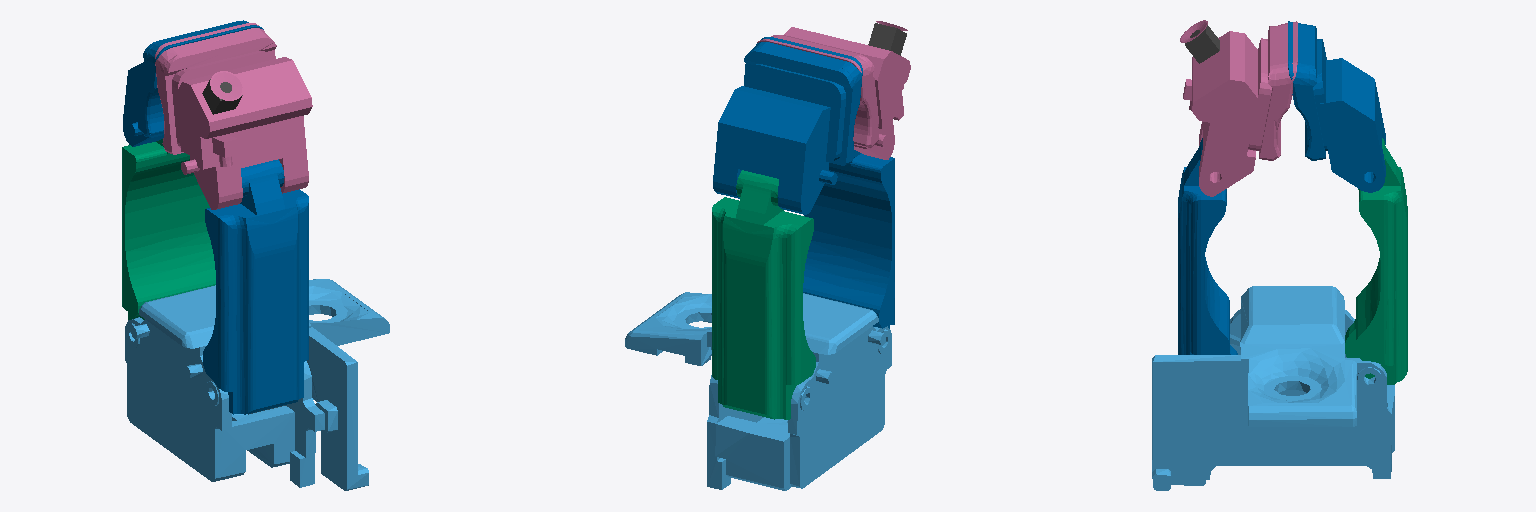
The robot description file, URDF, robot "hsrc_hand":
<?xml version='1.0' encoding='utf-8'?>
<robot name="hsrc_hand">
  <material name="body_main">
    <color rgba="1.0 0.0 0.0 1.0" />
  </material>
  <material name="body_sub">
    <color rgba="0.33 0.33 0.33 1.0" />
  </material>
  <material name="wheel">
    <color rgba="0.2 0.2 0.2 1.0" />
  </material>
  <material name="black">
    <color rgba="0.1 0.1 0.1 1.0" />
  </material>
  <material name="tablet">
    <color rgba="0.1 0.1 0.2 1.0" />
  </material>
  
  <link name="base_link" />
  <joint name="hand_palm_joint" type="fixed">
    <origin rpy="0.0 0.0 0.0" xyz="0.0 0.0 0.0" />
    <parent link="base_link" />
    <child link="hand_palm_link" />
  </joint>
  <link name="hand_palm_link">
    <inertial>
      <mass value="0.15" />
      <inertia ixx="0.015" ixy="0.0" ixz="0.0" iyy="0.015" iyz="0.0" izz="0.015" />
    </inertial>
    <visual>
      <geometry>
        <mesh filename="meshes/palm.dae" />
      </geometry>
    </visual>
    <collision>
      <geometry>
        <mesh filename="meshes/palm.stl" />
      </geometry>
    </collision>
  </link>
  <joint name="hand_motor_joint" type="revolute">
    <axis xyz="1.0 0.0 0.0" />
    <limit effort="100.0" lower="-0.798" upper="1.24" velocity="1.0" />
    <parent link="hand_palm_link" />
    <child link="hand_motor_dummy_link" />
    <dynamics damping="0.0001" />
  </joint>
  <link name="hand_motor_dummy_link">
    <inertial>
      <mass value="0.001" />
      <inertia ixx="0.001" ixy="0.0" ixz="0.0" iyy="0.001" iyz="0.0" izz="0.001" />
    </inertial>
  </link>
  <joint name="hand_l_proximal_joint" type="revolute">
    <origin rpy="0.0 0.0 0.0" xyz="-0.031 -0.0245 -0.0165" />
    <axis xyz="1.0 0.0 0.0" />
    <limit effort="100.0" lower="-0.798" upper="1.24" velocity="1.0" />
    <parent link="hand_palm_link" />
    <child link="hand_l_proximal_link" />
    <mimic joint="hand_motor_joint" />
    <dynamics damping="0.0001" />
  </joint>
  <link name="hand_l_proximal_link">
    <inertial>
      <mass value="0.001" />
      <inertia ixx="0.001" ixy="0.0" ixz="0.0" iyy="0.001" iyz="0.0" izz="0.001" />
    </inertial>
  </link>
  <joint name="hand_l_spring_proximal_joint" type="revolute">
    <axis xyz="1.0 0.0 0.0" />
    <limit effort="10.0" lower="0.0" upper="0.698" velocity="1.0" />
    <parent link="hand_l_proximal_link" />
    <child link="hand_l_spring_proximal_link" />
    <dynamics damping="0.0001" />
  </joint>
  <link name="hand_l_spring_proximal_link">
    <inertial>
      <mass value="0.001" />
      <origin xyz="0.021418 0.00248 0.022688" />
      <inertia ixx="0.001" ixy="0.0" ixz="0.0" iyy="0.001" iyz="0.0" izz="0.001" />
    </inertial>
    <visual>
      <geometry>
        <mesh filename="meshes/l_proximal.dae" />
      </geometry>
    </visual>
    <collision>
      <origin rpy="0.0 0.0 0.0" xyz="0.0205 -0.0075 0.04" />
      <geometry>
        <box size="0.032 0.015 0.05" />
      </geometry>
    </collision>
  </link>
  <joint name="hand_l_mimic_distal_joint" type="revolute">
    <origin xyz="0.0 0.0 0.07" />
    <axis xyz="1.0 0.0 0.0" />
    <limit effort="100.0" lower="-0.698" upper="-0.0" velocity="1.0" />
    <parent link="hand_l_spring_proximal_link" />
    <child link="hand_l_mimic_distal_link" />
    <mimic joint="hand_l_spring_proximal_joint" multiplier="-1.0" />
    <dynamics damping="0.0001" />
  </joint>
  <link name="hand_l_mimic_distal_link">
    <inertial>
      <mass value="0.001" />
      <inertia ixx="0.001" ixy="0.0" ixz="0.0" iyy="0.001" iyz="0.0" izz="0.001" />
    </inertial>
  </link>
  <joint name="hand_l_distal_joint" type="revolute">
    <axis xyz="1.0 0.0 0.0" />
    <limit effort="100.0" lower="-1.24" upper="0.798" velocity="1.0" />
    <parent link="hand_l_mimic_distal_link" />
    <child link="hand_l_distal_link" />
    <mimic joint="hand_motor_joint" multiplier="-1.0" offset="-0.087" />
    <dynamics damping="0.0001" />
  </joint>
  <link name="hand_l_distal_link">
    <inertial>
      <mass value="0.001" />
      <origin xyz="0.011116 0.005679 0.017532" />
      <inertia ixx="0.001" ixy="0.0" ixz="0.0" iyy="0.001" iyz="0.0" izz="0.001" />
    </inertial>
    <visual>
      <geometry>
        <mesh filename="meshes/l_distal.dae" />
      </geometry>
    </visual>
    <collision>
      <origin rpy="0.0 0.0 0.0" xyz="0.02 0.018 0.025" />
      <geometry>
        <box size="0.04 0.01 0.032" />
      </geometry>
    </collision>
    <collision>
      <origin rpy="0.0 0.0 0.0" xyz="0.02 0.0015 0.02" />
      <geometry>
        <box size="0.04 0.023 0.04" />
      </geometry>
    </collision>
  </link>
  <joint name="hand_l_finger_tip_frame_joint" type="fixed">
    <origin rpy="-1.5707963267948966 0.0 0.0" xyz="0.0195 0.0226 0.0409" />
    <parent link="hand_l_distal_link" />
    <child link="hand_l_finger_tip_frame" />
    <dynamics damping="0.0001" />
  </joint>
  <link name="hand_l_finger_tip_frame">
    <inertial>
      <mass value="0.001" />
      <inertia ixx="0.001" ixy="0.0" ixz="0.0" iyy="0.001" iyz="0.0" izz="0.001" />
    </inertial>
  </link>
  <joint name="hand_l_finger_vacuum_frame_joint" type="fixed">
    <origin rpy="0.6981317007977318 0.0 0.0" xyz="0.0065 -0.00953 0.035577" />
    <parent link="hand_l_distal_link" />
    <child link="hand_l_finger_vacuum_frame" />
  </joint>
  <link name="hand_l_finger_vacuum_frame">
    <inertial>
      <mass value="0.001" />
      <inertia ixx="0.001" ixy="0.0" ixz="0.0" iyy="0.001" iyz="0.0" izz="0.001" />
    </inertial>
    <visual>
      <origin rpy="0.0 0.0 0.0" xyz="0.0 0.0 -0.01" />
      <geometry>
        <box size="0.008 0.008 0.02" />
      </geometry>
      <material name="body_sub" />
    </visual>
  </link>
  <joint name="hand_r_proximal_joint" type="revolute">
    <origin rpy="0.0 0.0 0.0" xyz="-0.031 0.0245 -0.0165" />
    <axis xyz="-1.0 0.0 0.0" />
    <limit effort="100.0" lower="-0.798" upper="1.24" velocity="1.0" />
    <parent link="hand_palm_link" />
    <child link="hand_r_proximal_link" />
    <mimic joint="hand_motor_joint" />
    <dynamics damping="0.0001" />
  </joint>
  <link name="hand_r_proximal_link">
    <inertial>
      <mass value="0.001" />
      <inertia ixx="0.001" ixy="0.0" ixz="0.0" iyy="0.001" iyz="0.0" izz="0.001" />
    </inertial>
  </link>
  <joint name="hand_r_spring_proximal_joint" type="revolute">
    <axis xyz="-1.0 0.0 0.0" />
    <limit effort="10.0" lower="0.0" upper="0.698" velocity="1.0" />
    <parent link="hand_r_proximal_link" />
    <child link="hand_r_spring_proximal_link" />
    <dynamics damping="0.0001" />
  </joint>
  <link name="hand_r_spring_proximal_link">
    <inertial>
      <mass value="0.001" />
      <origin xyz="0.013203 0.002096 0.023311" />
      <inertia ixx="0.001" ixy="0.0" ixz="0.0" iyy="0.001" iyz="0.0" izz="0.001" />
    </inertial>
    <visual>
      <geometry>
        <mesh filename="meshes/r_proximal.dae" />
      </geometry>
    </visual>
    <collision>
      <origin rpy="0.0 0.0 0.0" xyz="0.0205 0.0075 0.04" />
      <geometry>
        <box size="0.032 0.015 0.05" />
      </geometry>
    </collision>
  </link>
  <joint name="hand_r_mimic_distal_joint" type="revolute">
    <origin xyz="0.0 0.0 0.07" />
    <axis xyz="-1.0 0.0 0.0" />
    <limit effort="100.0" lower="-0.698" upper="-0.0" velocity="1.0" />
    <parent link="hand_r_spring_proximal_link" />
    <child link="hand_r_mimic_distal_link" />
    <mimic joint="hand_r_spring_proximal_joint" multiplier="-1.0" />
    <dynamics damping="0.0001" />
  </joint>
  <link name="hand_r_mimic_distal_link">
    <inertial>
      <mass value="0.001" />
      <inertia ixx="0.001" ixy="0.0" ixz="0.0" iyy="0.001" iyz="0.0" izz="0.001" />
    </inertial>
  </link>
  <joint name="hand_r_distal_joint" type="revolute">
    <axis xyz="-1.0 0.0 0.0" />
    <limit effort="100.0" lower="-1.24" upper="0.798" velocity="1.0" />
    <parent link="hand_r_mimic_distal_link" />
    <child link="hand_r_distal_link" />
    <mimic joint="hand_motor_joint" multiplier="-1.0" offset="-0.087" />
    <dynamics damping="0.0001" />
  </joint>
  <link name="hand_r_distal_link">
    <inertial>
      <mass value="0.001" />
      <origin xyz="0.014256 -0.008321 0.015591" />
      <inertia ixx="0.001" ixy="0.0" ixz="0.0" iyy="0.001" iyz="0.0" izz="0.001" />
    </inertial>
    <visual>
      <geometry>
        <mesh filename="meshes/r_distal.dae" />
      </geometry>
    </visual>
    <collision>
      <origin rpy="0.0 0.0 0.0" xyz="0.02 -0.018 0.025" />
      <geometry>
        <box size="0.04 0.01 0.032" />
      </geometry>
    </collision>
    <collision>
      <origin rpy="0.0 0.0 0.0" xyz="0.02 -0.0015 0.02" />
      <geometry>
        <box size="0.04 0.023 0.04" />
      </geometry>
    </collision>
  </link>
  <joint name="hand_r_finger_tip_frame_joint" type="fixed">
    <origin rpy="1.5707963267948966 0.0 0.0" xyz="0.0195 -0.0226 0.0409" />
    <parent link="hand_r_distal_link" />
    <child link="hand_r_finger_tip_frame" />
  </joint>
  <link name="hand_r_finger_tip_frame">
    <inertial>
      <mass value="0.001" />
      <inertia ixx="0.001" ixy="0.0" ixz="0.0" iyy="0.001" iyz="0.0" izz="0.001" />
    </inertial>
  </link>
  <joint name="hand_camera_frame_joint" type="fixed">
    <origin rpy="0.0 0.0 0.0" xyz="0.026 0.0 0.0034" />
    <parent link="hand_palm_link" />
    <child link="hand_camera_frame" />
  </joint>
  <link name="hand_camera_frame">
    <inertial>
      <origin xyz="0 0 0" />
      <mass value="0.01" />
      <inertia ixx="0.001" ixy="0" ixz="0" iyy="0.001" iyz="0" izz="0.001" />
    </inertial>
  </link>
  <joint name="hand_camera_gazebo_frame_joint" type="fixed">
    <origin rpy="1.5707963267948966 -1.5707963267948966 0" xyz="0 0 0" />
    <parent link="hand_camera_frame" />
    <child link="hand_camera_gazebo_frame" />
  </joint>
  <link name="hand_camera_gazebo_frame">
    <inertial>
      <origin xyz="0 0 0" />
      <mass value="0.01" />
      <inertia ixx="0.001" ixy="0" ixz="0" iyy="0.001" iyz="0" izz="0.001" />
    </inertial>
  </link>
  <gazebo reference="hand_camera_gazebo_frame">
    <sensor name="hand_camera" type="camera">
      <update_rate>10.0</update_rate>
      <camera name="hand_camera">
        <horizontal_fov>2.00</horizontal_fov>
        <image>
          <width>640</width>
          <height>480</height>
          <format>R8G8B8</format>
        </image>
        <clip>
          <near>0.01</near>
          <far>100</far>
        </clip>
        <noise>
          <type>gaussian</type>
          <mean>0.0</mean>
          <stddev>0.007</stddev>
        </noise>
        <distortion>
          <k1>0.0</k1>
          <k2>0.0</k2>
          <k3>0.0</k3>
          <p1>0.0</p1>
          <p2>0.0</p2>
        </distortion>
      </camera>
      <plugin filename="libgazebo_ros_camera.so" name="hand_camera_camera_controller">
        <camera_name>hand_camera</camera_name>
        <frame_name>hand_camera_frame</frame_name>
        <hack_baseline>0.07</hack_baseline>
        <ros>
          <namespace />
        </ros>
      </plugin>
    </sensor>
  </gazebo>
  <gazebo reference="hand_palm_link">
    <selfCollide>False</selfCollide>
    <gravity>True</gravity>
    <mu1>0.9</mu1>
    <mu2>0.9</mu2>
  </gazebo>
  <gazebo reference="hand_camera_frame">
    <selfCollide>False</selfCollide>
    <gravity>False</gravity>
    <mu1>0.9</mu1>
    <mu2>0.9</mu2>
  </gazebo>
  <gazebo reference="hand_l_proximal_link">
    <selfCollide>False</selfCollide>
    <gravity>True</gravity>
    <mu1>1.0</mu1>
    <mu2>1.0</mu2>
  </gazebo>
  <gazebo reference="hand_l_spring_proximal_link">
    <selfCollide>False</selfCollide>
    <gravity>True</gravity>
    <mu1>1.0</mu1>
    <mu2>1.0</mu2>
  </gazebo>
  <gazebo reference="hand_l_mimic_distal_link">
    <selfCollide>False</selfCollide>
    <gravity>True</gravity>
    <mu1>1.0</mu1>
    <mu2>1.0</mu2>
  </gazebo>
  <gazebo reference="hand_l_distal_link">
    <selfCollide>False</selfCollide>
    <gravity>True</gravity>
    <mu1>1.0</mu1>
    <mu2>1.0</mu2>
  </gazebo>
  <gazebo reference="hand_l_finger_tip_frame">
    <selfCollide>False</selfCollide>
    <gravity>False</gravity>
    <mu1>1.0</mu1>
    <mu2>1.0</mu2>
  </gazebo>
  <gazebo reference="hand_l_finger_vacuum_frame">
    <selfCollide>False</selfCollide>
    <gravity>False</gravity>
    <mu1>1.0</mu1>
    <mu2>1.0</mu2>
  </gazebo>
  <gazebo reference="hand_r_proximal_link">
    <selfCollide>False</selfCollide>
    <gravity>True</gravity>
    <mu1>1.0</mu1>
    <mu2>1.0</mu2>
  </gazebo>
  <gazebo reference="hand_r_spring_proximal_link">
    <selfCollide>False</selfCollide>
    <gravity>True</gravity>
    <mu1>1.0</mu1>
    <mu2>1.0</mu2>
  </gazebo>
  <gazebo reference="hand_r_mimic_distal_link">
    <selfCollide>False</selfCollide>
    <gravity>True</gravity>
    <mu1>1.0</mu1>
    <mu2>1.0</mu2>
  </gazebo>
  <gazebo reference="hand_r_distal_link">
    <selfCollide>False</selfCollide>
    <gravity>False</gravity>
    <mu1>1.0</mu1>
    <mu2>1.0</mu2>
  </gazebo>
  <gazebo reference="hand_r_finger_tip_frame">
    <selfCollide>False</selfCollide>
    <gravity>False</gravity>
    <mu1>1.0</mu1>
    <mu2>1.0</mu2>
  </gazebo>
  <gazebo reference="hand_palm_joint">
  </gazebo>
  <gazebo reference="hand_motor_joint">
  </gazebo>
  <gazebo reference="hand_l_proximal_joint">
  </gazebo>
  <gazebo reference="hand_l_spring_proximal_joint">
  </gazebo>
  <gazebo reference="hand_l_mimic_distal_joint">
  </gazebo>
  <gazebo reference="hand_l_distal_joint">
  </gazebo>
  <gazebo reference="hand_r_proximal_joint">
  </gazebo>
  <gazebo reference="hand_r_spring_proximal_joint">
  </gazebo>
  <gazebo reference="hand_r_mimic_distal_joint">
  </gazebo>
  <gazebo reference="hand_r_distal_joint">
  </gazebo>
</robot>

--- Render facts (derived) ---
The picture shows the robot from 3 angles, left to right: view 1: azimuth 30°, elevation 25°; view 2: azimuth 150°, elevation 25°; view 3: azimuth 270°, elevation 25°; orthographic projection.
Model hsrc_hand with 16 links and 15 joints (9 revolute, 6 fixed), rooted at base_link, posed every joint at zero.
Visible links, largest first — view 1: hand_palm_link, hand_l_spring_proximal_link, hand_l_distal_link, hand_r_spring_proximal_link, hand_r_distal_link, hand_l_finger_vacuum_frame; view 2: hand_palm_link, hand_r_spring_proximal_link, hand_r_distal_link, hand_l_spring_proximal_link, hand_l_distal_link, hand_l_finger_vacuum_frame; view 3: hand_palm_link, hand_l_distal_link, hand_r_distal_link, hand_r_spring_proximal_link, hand_l_spring_proximal_link, hand_l_finger_vacuum_frame.
Boxes of the visible links, x1,y1,x2,y2 form: hand_palm_link: (125,279,389,490); hand_l_spring_proximal_link: (203,159,308,414); hand_l_distal_link: (155,23,312,209); hand_r_spring_proximal_link: (122,139,215,319); hand_r_distal_link: (123,20,263,146); hand_l_finger_vacuum_frame: (202,79,242,114); hand_palm_link: (625,292,891,490); hand_r_spring_proximal_link: (712,170,815,419); hand_r_distal_link: (713,37,862,214); hand_l_spring_proximal_link: (803,150,894,328); hand_l_distal_link: (757,21,910,159); hand_l_finger_vacuum_frame: (868,23,906,55); hand_palm_link: (1152,286,1394,490); hand_l_distal_link: (1180,20,1297,196); hand_r_distal_link: (1288,21,1385,192); hand_r_spring_proximal_link: (1345,138,1407,384); hand_l_spring_proximal_link: (1178,138,1237,354); hand_l_finger_vacuum_frame: (1185,25,1219,63).
Size in the robot's own frame: 0.0755 by 0.081 by 0.1455 metres.
5 mesh visuals loaded from 5 distinct referenced files (5 Collada DAE).
